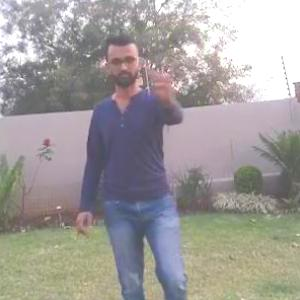takeoff-hand: (143, 60, 186, 104)
